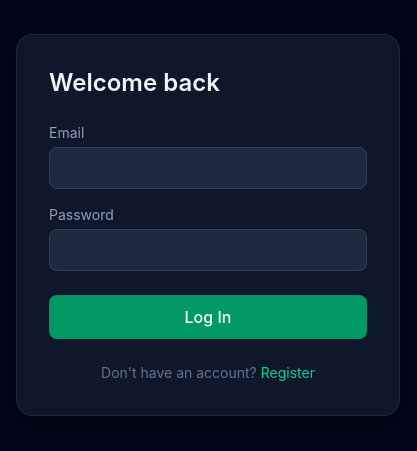
it: Login › shows an error message when login fails
Type "wrong@example.com" into the field labelled "Email". click: point(208, 168)
box: [49,147,367,189]
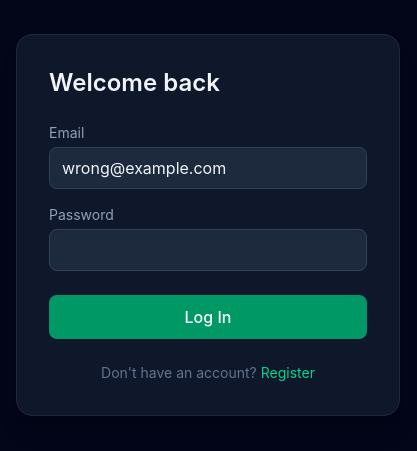
Type "wrongpass" into the password field labelled "Password". click: point(208, 250)
box: [49,229,367,271]
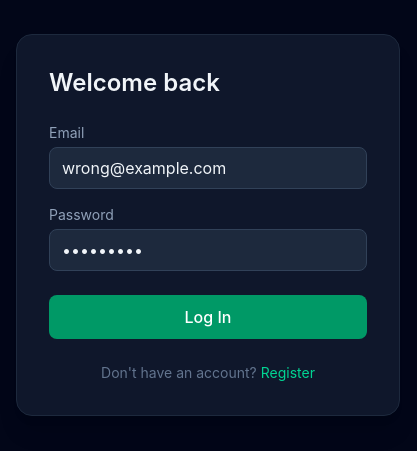
Click the button "Log In". click: point(208, 317)
box: [49,295,367,339]
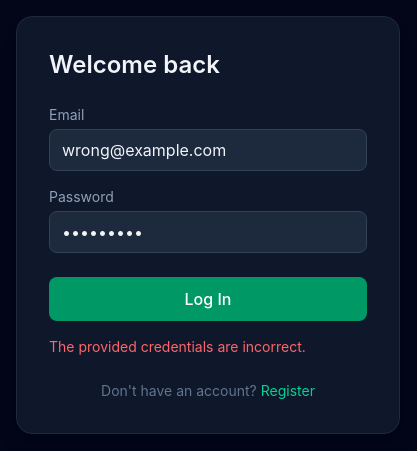
Expected: the text "The provided credentials are incorrect." is shown, [49,338,306,355]
